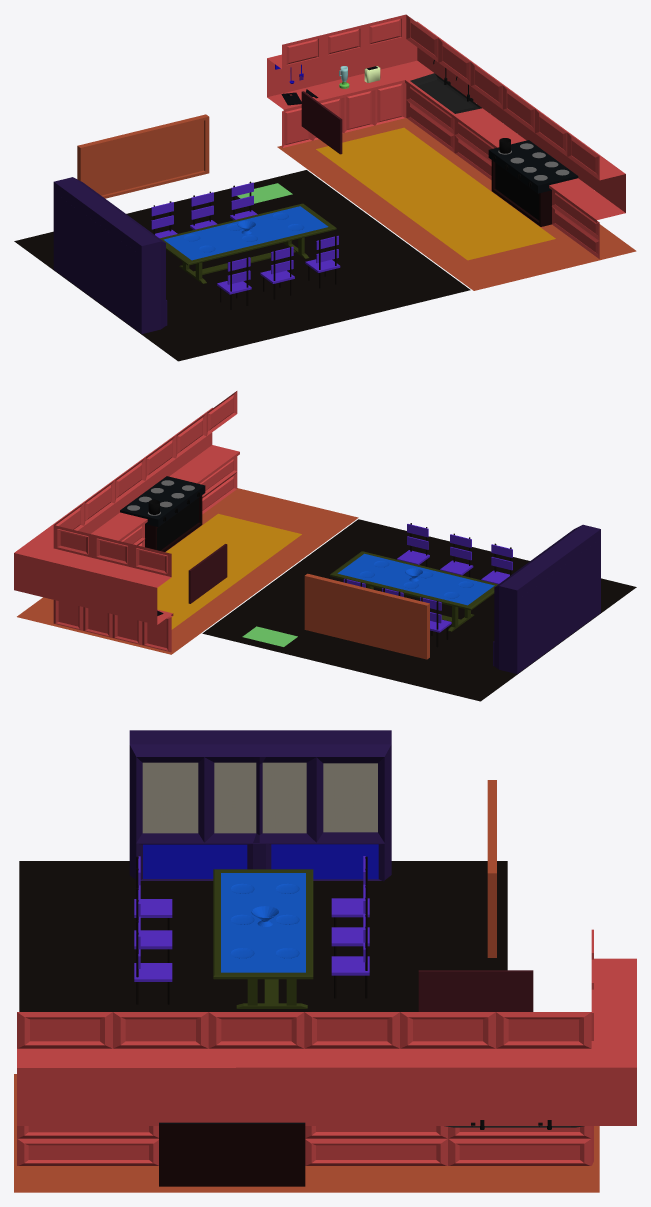
The model's file is wisteria_map2.obj.
3 views of the same model, one above another, from view 1: azimuth 30°, elevation 25°; view 2: azimuth 150°, elevation 25°; view 3: azimuth 270°, elevation 25° (orthographic). The views are drawn at different scales.
Visible parts, largest first — view 1: storage, dining, kitchen_carpet, plate_storage, kitchen, dining_painting, dining_table, chair, oven, kitchen_painting, plates, Plane.001; view 2: storage, dining, plate_storage, kitchen, dining_painting, kitchen_carpet, dining_table, oven, chair, kitchen_painting, Plane.001, plates; view 3: storage, dining, plate_storage, kitchen, dining_table, oven, chair, kitchen_painting, dining_painting, plates.
Boxes of the visible parts, x1,y1,x2,y2 form: storage: (267,14,625,258); dining: (14,170,470,361); kitchen_carpet: (316,127,555,260); plate_storage: (53,177,167,333); kitchen: (277,118,636,290); dining_painting: (77,114,209,198); dining_table: (160,203,336,283); chair: (151,181,340,309); oven: (488,138,578,226); kitchen_painting: (301,91,342,154); plates: (184,212,304,252); Plane.001: (237,183,292,203); storage: (14,391,239,652); dining: (202,519,636,701); plate_storage: (493,524,600,673); kitchen: (17,488,358,654); dining_painting: (304,573,429,659); kitchen_carpet: (157,513,301,629); dining_table: (330,551,497,631); oven: (120,476,205,551); chair: (343,523,512,647); kitchen_painting: (188,544,227,603); Plane.001: (242,626,297,646); plates: (359,561,473,598); storage: (17,929,636,1165); dining: (19,861,507,1011); plate_storage: (129,730,391,881); kitchen: (14,1074,599,1192); dining_table: (213,869,313,1008); oven: (159,1122,305,1186); chair: (134,856,369,1004); kitchen_painting: (418,970,533,1011); dining_painting: (487,780,496,957); plates: (230,883,299,958).
Bounding box in the file's own units: 34.59 × 7.52 × 27.46.
